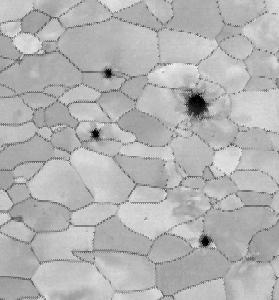good_void: (182, 84, 214, 125), (87, 123, 107, 146), (98, 64, 118, 84), (196, 227, 213, 246), (10, 214, 25, 224), (33, 202, 42, 209), (142, 217, 150, 223), (161, 68, 165, 74)
